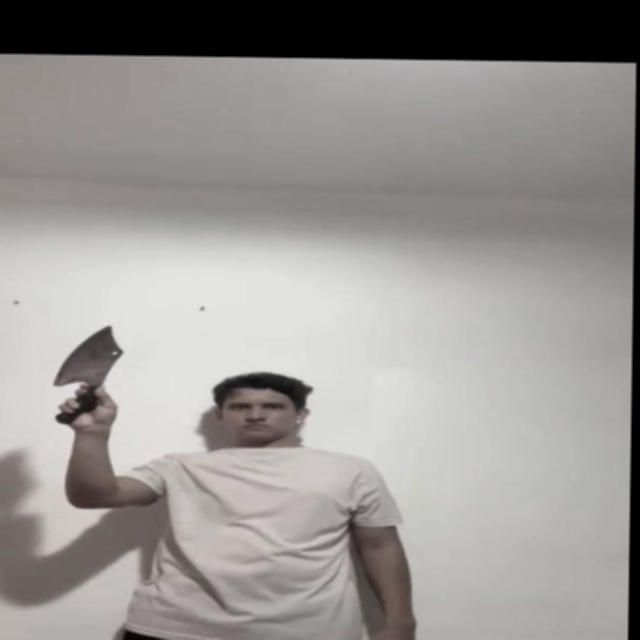Sharp-Object: (57, 326, 127, 386)
